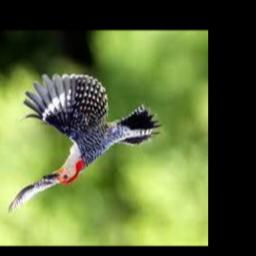Woodpecker: (8, 74, 160, 215)
